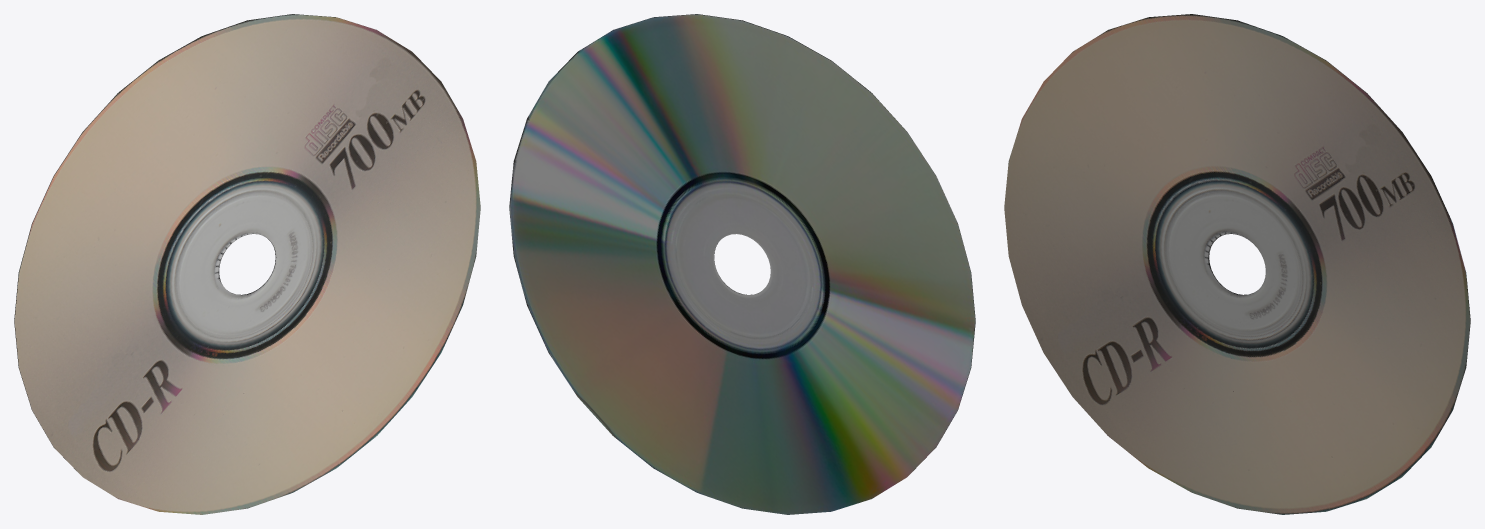
Rendered from cdmain.9d173f2a.glb.
The picture shows the model from 3 angles, left to right: view 1: azimuth 30°, elevation 25°; view 2: azimuth 150°, elevation 25°; view 3: azimuth 330°, elevation 25°; orthographic projection.
Parts seen in each view (by area): view 1: Cylinder; view 2: Cylinder; view 3: Cylinder.
Part boxes in pixels (box(x1,y1,x2,y2)): Cylinder: box(14, 14, 480, 514); Cylinder: box(509, 14, 975, 514); Cylinder: box(1004, 14, 1470, 514).
Bounding box in the file's own units: 2 × 2 × 0.00271.
Materials: 1 (1 with a texture image).
